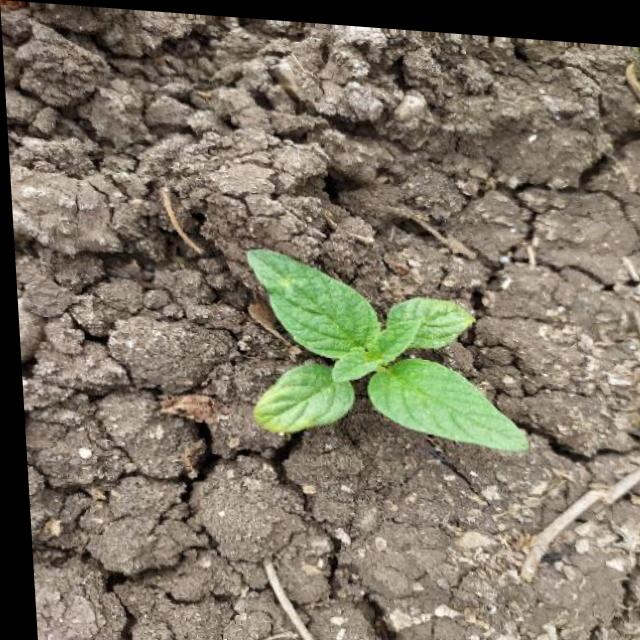crop: (228, 230, 533, 455)
